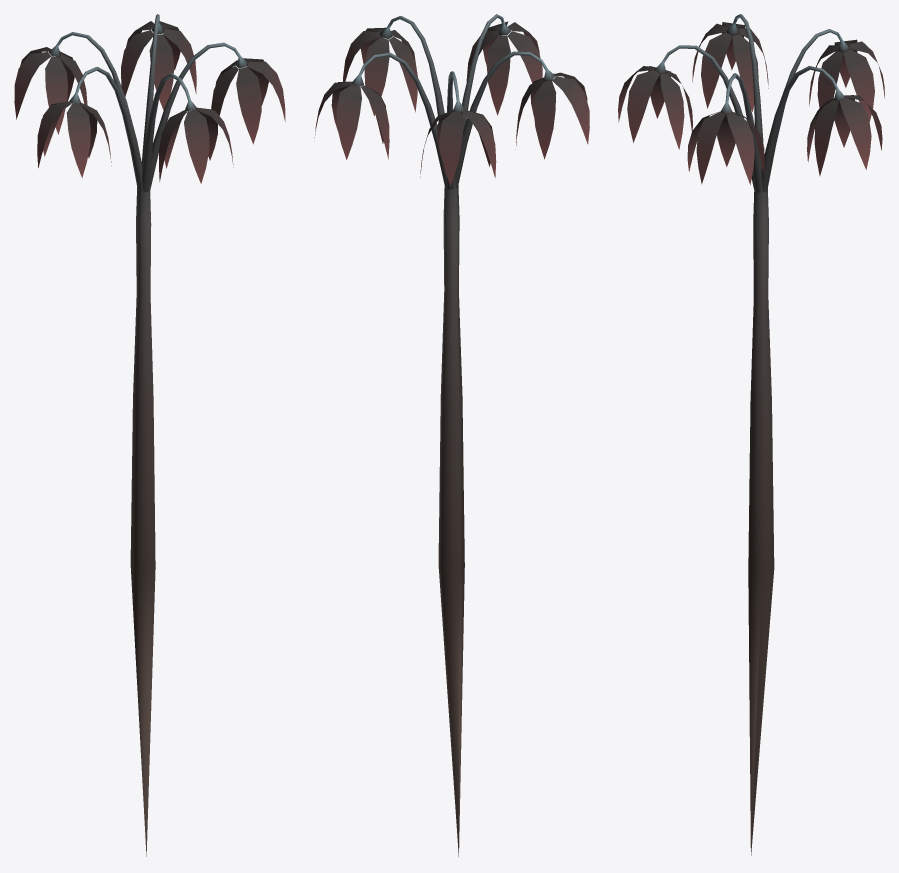
File: plants-flowers-red-bell-flower_v4.fbx
3 views of the same model, side by side, from view 1: azimuth 30°, elevation 25°; view 2: azimuth 150°, elevation 25°; view 3: azimuth 270°, elevation 25° (orthographic).
Parts seen in each view (by area): view 1: Red Bell Flower_v4; view 2: Red Bell Flower_v4; view 3: Red Bell Flower_v4.
Boxes of the visible parts, x1,y1,x2,y2 form: Red Bell Flower_v4: (14, 14, 285, 856); Red Bell Flower_v4: (314, 14, 589, 856); Red Bell Flower_v4: (618, 14, 884, 855).
Bounding box in the file's own units: 0.2135 × 0.7 × 0.2083.
